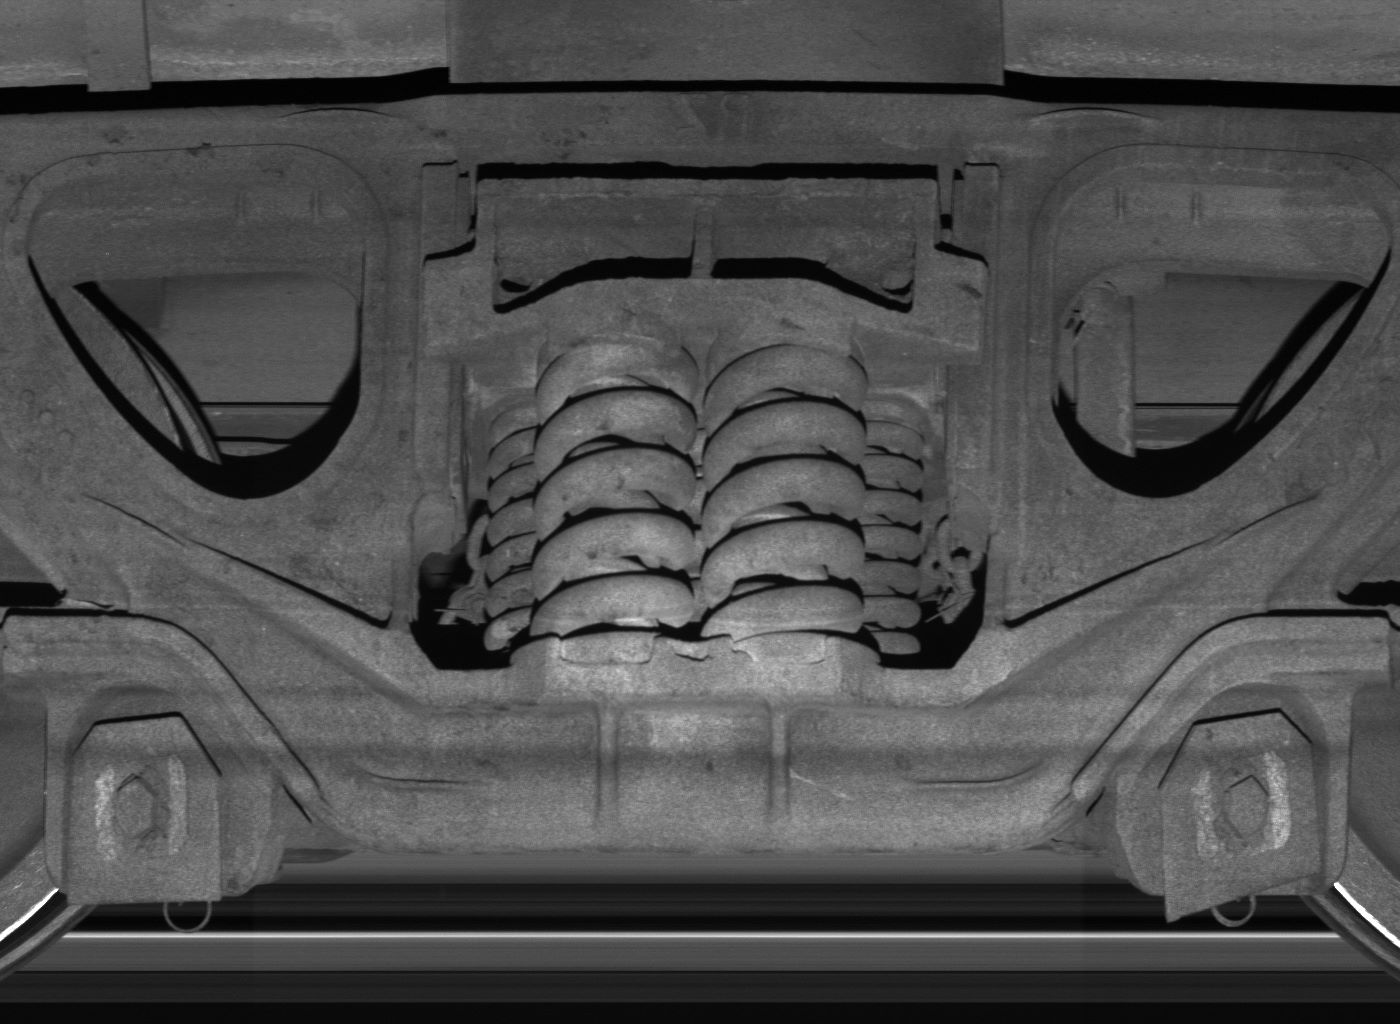Locking plate: (1118, 671, 1351, 923)
normal: (43, 685, 262, 909)
